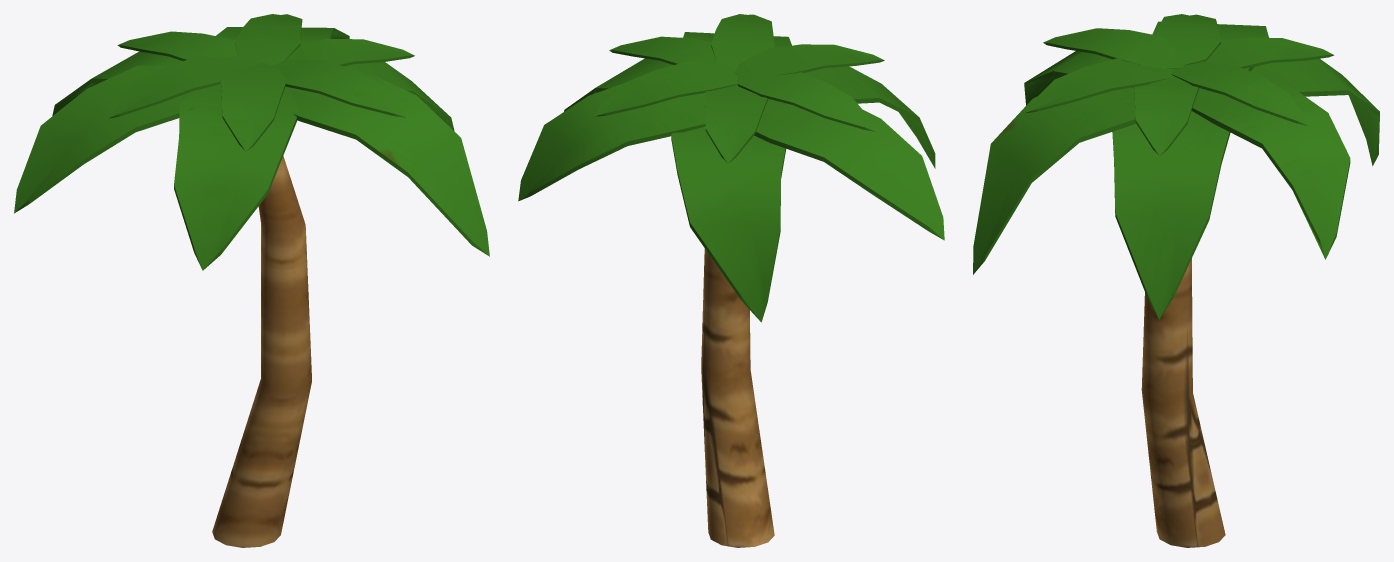
File: Palmera.FBX
The picture shows the model from 3 angles, left to right: view 1: azimuth 30°, elevation 25°; view 2: azimuth 150°, elevation 25°; view 3: azimuth 270°, elevation 25°; orthographic projection. The views are drawn at different scales.
Parts seen in each view (by area): view 1: Cylinder008; view 2: Cylinder008; view 3: Cylinder008.
Part boxes in pixels (x1,y1,x2,y2): Cylinder008: [14, 14, 489, 547]; Cylinder008: [518, 14, 944, 547]; Cylinder008: [973, 14, 1379, 547].
Size of the model in its own units: 67.47 by 73.22 by 56.57.
